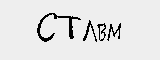В: (95, 21, 108, 45)
Л: (81, 18, 97, 46)
М: (107, 20, 125, 45)
С: (34, 11, 56, 41)
Т: (57, 12, 83, 41)
